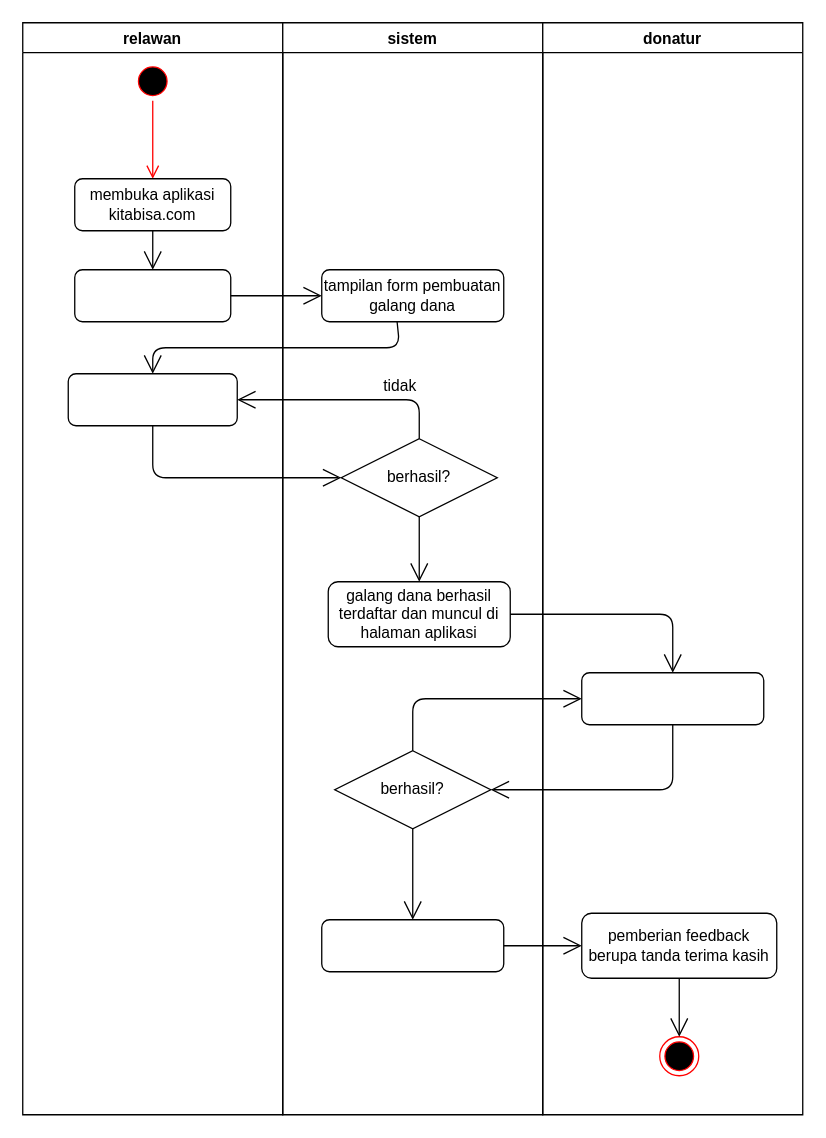
This 826x1138 diagram has some shape labels left out. Here are the shapes that lost their labels. From the top down, the centre of each, then its label:
(152,295): mendaftar galang dana
(152,399): mengisi persyaratan
(672,698): melakukan donasi
(412,945): donasi berhasil terkirim
